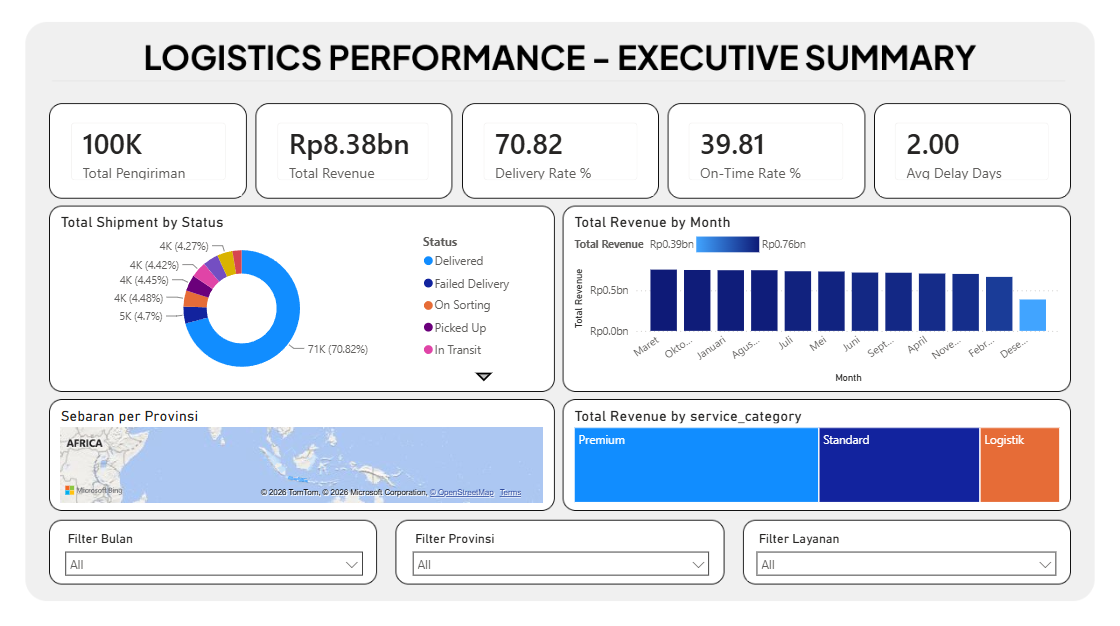

This screenshot's page, from the dashboard's own definition file:
{"tool":"powerbi","page":{"name":"Executive Summary","canvas":[1280,720],"ordinal":0},"visuals":[{"type":"cardVisual","fields":{"Data":["dw vw_DeliveryPerformanceSummary.Delivery Rate %"]},"box":[535,124.2,210.8,100.8],"z":0},{"type":"cardVisual","fields":{"Data":["dw vw_DeliveryPerformanceSummary.On-Time Rate %"]},"box":[770,124.2,211.7,100.8],"z":1000},{"type":"cardVisual","fields":{"Data":["dw vw_DeliveryPerformanceSummary.Avg Delay Days"]},"box":[1005.8,124.2,210.8,100.8],"z":2000},{"type":"cardVisual","fields":{"Data":["Sum(dw vw_DeliveryPerformanceSummary.total_shipment)"]},"box":[64.3,124.3,211.4,101.4],"z":3000},{"type":"cardVisual","fields":{"Data":["Sum(dw vw_DeliveryPerformanceSummary.total_amount)"]},"box":[300,124.2,207.5,100.8],"z":4000},{"type":"donutChart","fields":{"Category":["dw vw_DeliveryPerformanceSummary.status_name"],"Y":["Sum(dw vw_DeliveryPerformanceSummary.total_shipment)"]},"box":[63.8,243.8,561.2,200],"z":5000},{"type":"clusteredColumnChart","fields":{"Category":["dw vw_DeliveryPerformanceSummary.transaction_month"],"Y":["Sum(dw vw_DeliveryPerformanceSummary.total_amount)"]},"box":[651.2,243.8,565,200],"z":6000},{"type":"filledMap","fields":{"Category":["dw vw_DeliveryPerformanceSummary.customer_province"]},"box":[63.8,465,561.2,115],"z":7000},{"type":"slicer","fields":{"Values":["dw vw_DeliveryPerformanceSummary.transaction_month"]},"box":[64.2,603.3,360,61.7],"z":8000},{"type":"slicer","fields":{"Values":["dw vw_DeliveryPerformanceSummary.customer_province"]},"box":[461.7,603.3,359.2,61.7],"z":9000},{"type":"slicer","fields":{"Values":["dw vw_DeliveryPerformanceSummary.service_category"]},"box":[854.2,603.3,362.5,61.7],"z":10000},{"type":"treemap","fields":{"Values":["Sum(dw vw_DeliveryPerformanceSummary.total_amount)"],"Group":["dw vw_DeliveryPerformanceSummary.service_category"]},"box":[651.2,465,565,115],"z":11000}]}

Visuals, with their boxes in screenshot pixels (x1, y1, x2, y2), scaled from the page's 1280x720 canvas onto the 1120x626 screenshot:
cardVisual - dw vw_DeliveryPerformanceSummary.Delivery Rate %: {"left": 468, "top": 108, "right": 653, "bottom": 196}
cardVisual - dw vw_DeliveryPerformanceSummary.On-Time Rate %: {"left": 674, "top": 108, "right": 859, "bottom": 196}
cardVisual - dw vw_DeliveryPerformanceSummary.Avg Delay Days: {"left": 880, "top": 108, "right": 1065, "bottom": 196}
cardVisual - Sum(dw vw_DeliveryPerformanceSummary.total_shipment): {"left": 56, "top": 108, "right": 241, "bottom": 196}
cardVisual - Sum(dw vw_DeliveryPerformanceSummary.total_amount): {"left": 262, "top": 108, "right": 444, "bottom": 196}
donutChart - dw vw_DeliveryPerformanceSummary.status_name x Sum(dw vw_DeliveryPerformanceSummary.total_shipment): {"left": 56, "top": 212, "right": 547, "bottom": 386}
clusteredColumnChart - dw vw_DeliveryPerformanceSummary.transaction_month x Sum(dw vw_DeliveryPerformanceSummary.total_amount): {"left": 570, "top": 212, "right": 1064, "bottom": 386}
filledMap - dw vw_DeliveryPerformanceSummary.customer_province: {"left": 56, "top": 404, "right": 547, "bottom": 504}
slicer - dw vw_DeliveryPerformanceSummary.transaction_month: {"left": 56, "top": 525, "right": 371, "bottom": 578}
slicer - dw vw_DeliveryPerformanceSummary.customer_province: {"left": 404, "top": 525, "right": 718, "bottom": 578}
slicer - dw vw_DeliveryPerformanceSummary.service_category: {"left": 747, "top": 525, "right": 1065, "bottom": 578}
treemap - Sum(dw vw_DeliveryPerformanceSummary.total_amount) x dw vw_DeliveryPerformanceSummary.service_category: {"left": 570, "top": 404, "right": 1064, "bottom": 504}
